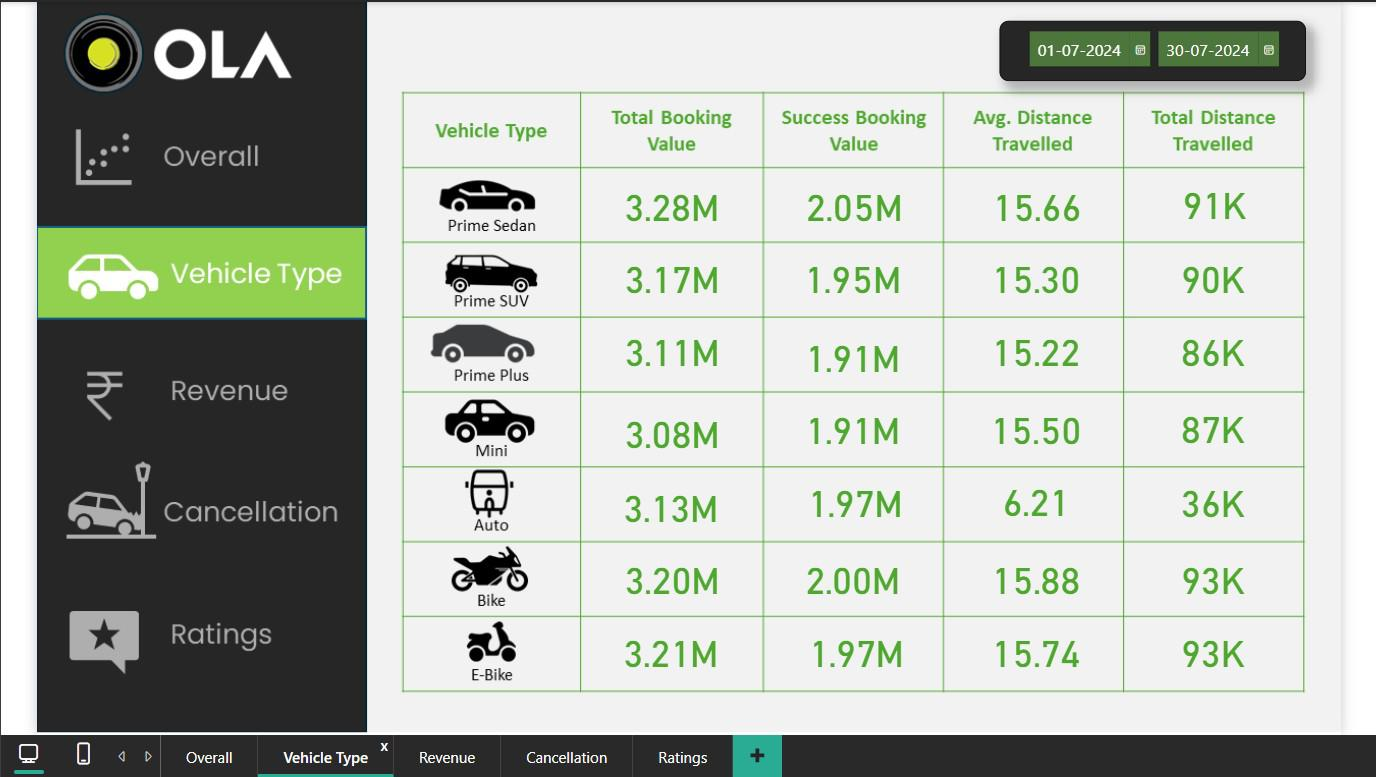

What the dashboard file says about the page in this screenshot:
{"tool":"powerbi","page":{"name":"Vehicle Type","canvas":[1280,720],"ordinal":1},"visuals":[{"type":"actionButton","box":[0,577.9,322.7,92],"z":0},{"type":"actionButton","box":[1.2,331.3,322.7,92],"z":1000},{"type":"actionButton","box":[0,219.6,322.7,92],"z":2000},{"type":"actionButton","box":[0,105.5,322.7,92],"z":3000},{"type":"actionButton","box":[0,452.8,322.7,92],"z":4000},{"type":"card","fields":{"Values":["Sum(July.Booking_Value)"]},"box":[533.7,163.2,179.1,71.2],"z":5000},{"type":"card","fields":{"Values":["Sum(July.Booking_Value)"]},"box":[712.9,163.2,179.1,71.2],"z":6000},{"type":"card","fields":{"Values":["Avg(July.Ride_Distance)"]},"box":[892,163.2,179.1,71.2],"z":7000},{"type":"card","fields":{"Values":["Sum(July.Ride_Distance)"]},"box":[1071.2,162,169.3,71.2],"z":8000},{"type":"card","fields":{"Values":["Sum(July.Booking_Value)"]},"box":[533.8,234.6,179.8,71.4],"z":9000},{"type":"card","fields":{"Values":["Sum(July.Booking_Value)"]},"box":[533.8,306,179.8,71.4],"z":10000},{"type":"card","fields":{"Values":["Sum(July.Booking_Value)"]},"box":[533.8,387,179.8,71.4],"z":11000},{"type":"card","fields":{"Values":["Sum(July.Booking_Value)"]},"box":[532.4,458.3,179.8,71.4],"z":12000},{"type":"card","fields":{"Values":["Sum(July.Booking_Value)"]},"box":[533.8,529.7,179.8,71.4],"z":13000},{"type":"card","fields":{"Values":["Sum(July.Booking_Value)"]},"box":[532.4,601,179.8,71.4],"z":14000},{"type":"card","fields":{"Values":["Sum(July.Booking_Value)"]},"box":[712.2,234.6,178.4,71.4],"z":15000},{"type":"card","fields":{"Values":["Sum(July.Booking_Value)"]},"box":[712.2,311.5,178.4,71.4],"z":16000},{"type":"card","fields":{"Values":["Sum(July.Booking_Value)"]},"box":[712.2,382.8,178.4,71.4],"z":17000},{"type":"card","fields":{"Values":["Sum(July.Booking_Value)"]},"box":[713.6,454.2,178.4,71.4],"z":18000},{"type":"card","fields":{"Values":["Sum(July.Booking_Value)"]},"box":[712.2,529.7,178.4,71.4],"z":19000},{"type":"card","fields":{"Values":["Sum(July.Booking_Value)"]},"box":[714.9,601,178.4,71.4],"z":20000},{"type":"card","fields":{"Values":["Avg(July.Ride_Distance)"]},"box":[890.6,234.6,179.8,71.4],"z":21000},{"type":"card","fields":{"Values":["Avg(July.Ride_Distance)"]},"box":[890.6,306,179.8,71.4],"z":22000},{"type":"card","fields":{"Values":["Avg(July.Ride_Distance)"]},"box":[890.6,382.8,179.8,71.4],"z":23000},{"type":"card","fields":{"Values":["Avg(July.Ride_Distance)"]},"box":[890.6,452.8,179.8,71.4],"z":24000},{"type":"card","fields":{"Values":["Avg(July.Ride_Distance)"]},"box":[890.6,529.7,179.8,71.4],"z":25000},{"type":"card","fields":{"Values":["Avg(July.Ride_Distance)"]},"box":[890.6,601,179.8,71.4],"z":26000},{"type":"card","fields":{"Values":["Sum(July.Ride_Distance)"]},"box":[1070.3,234.6,168.8,71.4],"z":27000},{"type":"card","fields":{"Values":["Sum(July.Ride_Distance)"]},"box":[1070.3,306,168.8,71.4],"z":28000},{"type":"card","fields":{"Values":["Sum(July.Ride_Distance)"]},"box":[1070.3,381.5,168.8,71.4],"z":29000},{"type":"card","fields":{"Values":["Sum(July.Ride_Distance)"]},"box":[1070.3,454.2,168.8,71.4],"z":30000},{"type":"card","fields":{"Values":["Sum(July.Ride_Distance)"]},"box":[1070.3,529.7,168.8,71.4],"z":31000},{"type":"card","fields":{"Values":["Sum(July.Ride_Distance)"]},"box":[1070.3,601,168.8,71.4],"z":32000},{"type":"slicer","title":"Date","fields":{"Values":["July.Date"]},"box":[944.8,18.4,300.6,58.9],"z":33000}]}

Visuals, with their boxes on the page's 1280x720 design canvas (x1, y1, x2, y2). These are canvas units, not pixel positions in the 1376x777 screenshot, which may show the page scaled, cropped or inside an application window:
actionButton: {"x1": 0, "y1": 578, "x2": 323, "y2": 670}
actionButton: {"x1": 1, "y1": 331, "x2": 324, "y2": 423}
actionButton: {"x1": 0, "y1": 220, "x2": 323, "y2": 312}
actionButton: {"x1": 0, "y1": 106, "x2": 323, "y2": 198}
actionButton: {"x1": 0, "y1": 453, "x2": 323, "y2": 545}
card - Sum(July.Booking_Value): {"x1": 534, "y1": 163, "x2": 713, "y2": 234}
card - Sum(July.Booking_Value): {"x1": 713, "y1": 163, "x2": 892, "y2": 234}
card - Avg(July.Ride_Distance): {"x1": 892, "y1": 163, "x2": 1071, "y2": 234}
card - Sum(July.Ride_Distance): {"x1": 1071, "y1": 162, "x2": 1240, "y2": 233}
card - Sum(July.Booking_Value): {"x1": 534, "y1": 235, "x2": 714, "y2": 306}
card - Sum(July.Booking_Value): {"x1": 534, "y1": 306, "x2": 714, "y2": 377}
card - Sum(July.Booking_Value): {"x1": 534, "y1": 387, "x2": 714, "y2": 458}
card - Sum(July.Booking_Value): {"x1": 532, "y1": 458, "x2": 712, "y2": 530}
card - Sum(July.Booking_Value): {"x1": 534, "y1": 530, "x2": 714, "y2": 601}
card - Sum(July.Booking_Value): {"x1": 532, "y1": 601, "x2": 712, "y2": 672}
card - Sum(July.Booking_Value): {"x1": 712, "y1": 235, "x2": 891, "y2": 306}
card - Sum(July.Booking_Value): {"x1": 712, "y1": 312, "x2": 891, "y2": 383}
card - Sum(July.Booking_Value): {"x1": 712, "y1": 383, "x2": 891, "y2": 454}
card - Sum(July.Booking_Value): {"x1": 714, "y1": 454, "x2": 892, "y2": 526}
card - Sum(July.Booking_Value): {"x1": 712, "y1": 530, "x2": 891, "y2": 601}
card - Sum(July.Booking_Value): {"x1": 715, "y1": 601, "x2": 893, "y2": 672}
card - Avg(July.Ride_Distance): {"x1": 891, "y1": 235, "x2": 1070, "y2": 306}
card - Avg(July.Ride_Distance): {"x1": 891, "y1": 306, "x2": 1070, "y2": 377}
card - Avg(July.Ride_Distance): {"x1": 891, "y1": 383, "x2": 1070, "y2": 454}
card - Avg(July.Ride_Distance): {"x1": 891, "y1": 453, "x2": 1070, "y2": 524}
card - Avg(July.Ride_Distance): {"x1": 891, "y1": 530, "x2": 1070, "y2": 601}
card - Avg(July.Ride_Distance): {"x1": 891, "y1": 601, "x2": 1070, "y2": 672}
card - Sum(July.Ride_Distance): {"x1": 1070, "y1": 235, "x2": 1239, "y2": 306}
card - Sum(July.Ride_Distance): {"x1": 1070, "y1": 306, "x2": 1239, "y2": 377}
card - Sum(July.Ride_Distance): {"x1": 1070, "y1": 382, "x2": 1239, "y2": 453}
card - Sum(July.Ride_Distance): {"x1": 1070, "y1": 454, "x2": 1239, "y2": 526}
card - Sum(July.Ride_Distance): {"x1": 1070, "y1": 530, "x2": 1239, "y2": 601}
card - Sum(July.Ride_Distance): {"x1": 1070, "y1": 601, "x2": 1239, "y2": 672}
"Date" slicer: {"x1": 945, "y1": 18, "x2": 1245, "y2": 77}
